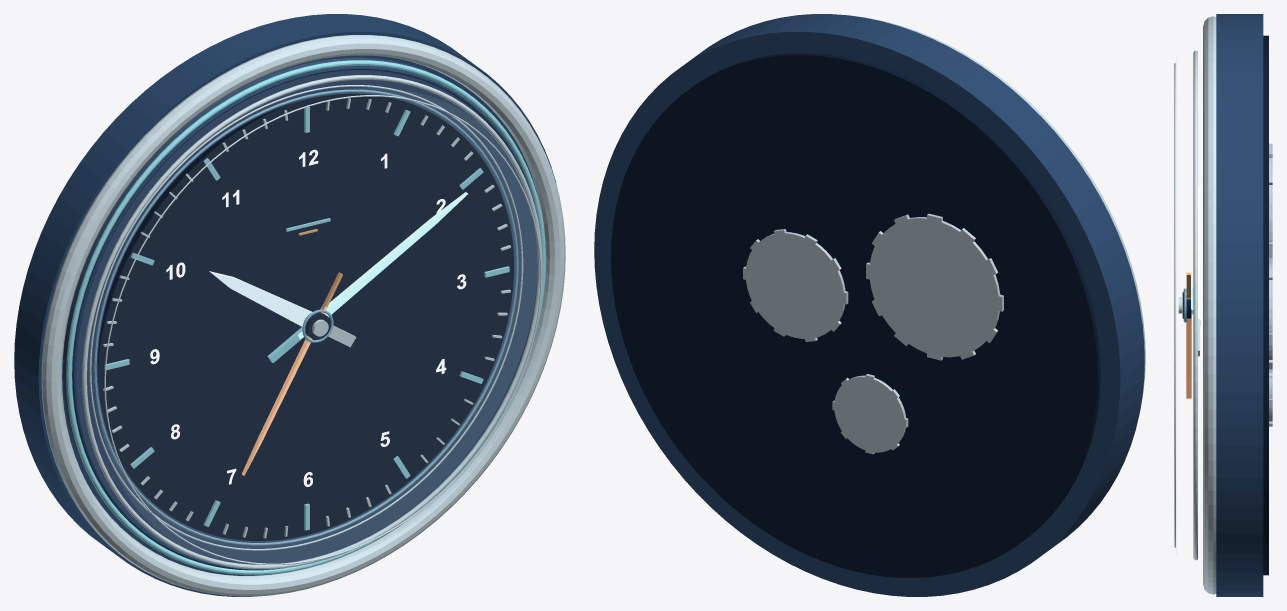
Rendered from clock_breakup.glb.
3 renders of one model, left to right at view 1: azimuth 30°, elevation 25°; view 2: azimuth 150°, elevation 25°; view 3: azimuth 270°, elevation 25°, orthographic. The views are drawn at different scales.
Visible parts, largest first — view 1: CLOCK_BREAK / services / Dial / brushed face, CLOCK_BREAK / interface / Bezel / outer polished edge, CLOCK_BREAK / services / Dial / recessed enamel, CLOCK_BREAK / delivery / Case / cobalt body, CLOCK_BREAK / interface / Crystal / fine perimeter, CLOCK_BREAK / interface / Bezel / cyan inner lip, CLOCK_BREAK / interface / Bezel / inner machined seam, CLOCK_BREAK / services / Dial / circular minute track, CLOCK_BREAK / services / Dial / fine radial border, CLOCK_BREAK / interface / Crystal / highlight rim, CLOCK_BREAK / interaction / HAND_MINUTE / blade, CLOCK_BREAK / interaction / HAND_HOUR / blade (+1 smaller); view 2: CLOCK_BREAK / delivery / Back / dark steel, CLOCK_BREAK / delivery / Case / cobalt body, CLOCK_BREAK / mechanism / drive wheel, CLOCK_BREAK / mechanism / transfer wheel, CLOCK_BREAK / mechanism / escapement wheel, CLOCK_BREAK / interface / Bezel / outer polished edge; view 3: CLOCK_BREAK / delivery / Case / cobalt body, CLOCK_BREAK / interface / Bezel / outer polished edge, CLOCK_BREAK / delivery / Back / dark steel, CLOCK_BREAK / interface / Crystal / fine perimeter, CLOCK_BREAK / interface / Crystal / highlight rim, CLOCK_BREAK / interaction / HAND_SECOND / blade, CLOCK_BREAK / interaction / HAND_HOUR / blade, CLOCK_BREAK / mechanism / transfer wheel, CLOCK_BREAK / mechanism / drive wheel, CLOCK_BREAK / interaction / Pinion / dark bearing.
Part boxes in pixels (<box>): CLOCK_BREAK / services / Dial / brushed face: <box>97,93,513,541</box>; CLOCK_BREAK / interface / Bezel / outer polished edge: <box>41,35,565,596</box>; CLOCK_BREAK / services / Dial / recessed enamel: <box>63,57,537,564</box>; CLOCK_BREAK / delivery / Case / cobalt body: <box>14,14,559,596</box>; CLOCK_BREAK / interface / Crystal / fine perimeter: <box>82,75,542,569</box>; CLOCK_BREAK / interface / Bezel / cyan inner lip: <box>66,60,546,575</box>; CLOCK_BREAK / interface / Bezel / inner machined seam: <box>72,66,537,570</box>; CLOCK_BREAK / services / Dial / circular minute track: <box>93,89,518,545</box>; CLOCK_BREAK / services / Dial / fine radial border: <box>89,85,523,550</box>; CLOCK_BREAK / interface / Crystal / highlight rim: <box>104,95,541,564</box>; CLOCK_BREAK / interaction / HAND_MINUTE / blade: <box>297,192,467,339</box>; CLOCK_BREAK / interaction / HAND_HOUR / blade: <box>209,271,312,326</box>; CLOCK_BREAK / delivery / Back / dark steel: <box>611,53,1100,577</box>; CLOCK_BREAK / delivery / Case / cobalt body: <box>594,14,1144,596</box>; CLOCK_BREAK / mechanism / drive wheel: <box>869,217,1000,357</box>; CLOCK_BREAK / mechanism / transfer wheel: <box>745,232,845,338</box>; CLOCK_BREAK / mechanism / escapement wheel: <box>834,375,905,452</box>; CLOCK_BREAK / interface / Bezel / outer polished edge: <box>849,15,1145,409</box>; CLOCK_BREAK / delivery / Case / cobalt body: <box>1216,14,1263,596</box>; CLOCK_BREAK / interface / Bezel / outer polished edge: <box>1203,16,1216,594</box>; CLOCK_BREAK / delivery / Back / dark steel: <box>1263,35,1268,575</box>; CLOCK_BREAK / interface / Crystal / fine perimeter: <box>1193,50,1197,560</box>; CLOCK_BREAK / interface / Crystal / highlight rim: <box>1174,63,1175,547</box>; CLOCK_BREAK / interaction / HAND_SECOND / blade: <box>1186,293,1191,398</box>; CLOCK_BREAK / interaction / HAND_HOUR / blade: <box>1198,186,1200,325</box>; CLOCK_BREAK / mechanism / transfer wheel: <box>1269,262,1272,369</box>; CLOCK_BREAK / mechanism / drive wheel: <box>1269,158,1272,242</box>; CLOCK_BREAK / interaction / Pinion / dark bearing: <box>1182,292,1191,318</box>.
Bounding box in the file's own units: 3.74 × 3.74 × 0.629.
15 materials, 1 textured.
